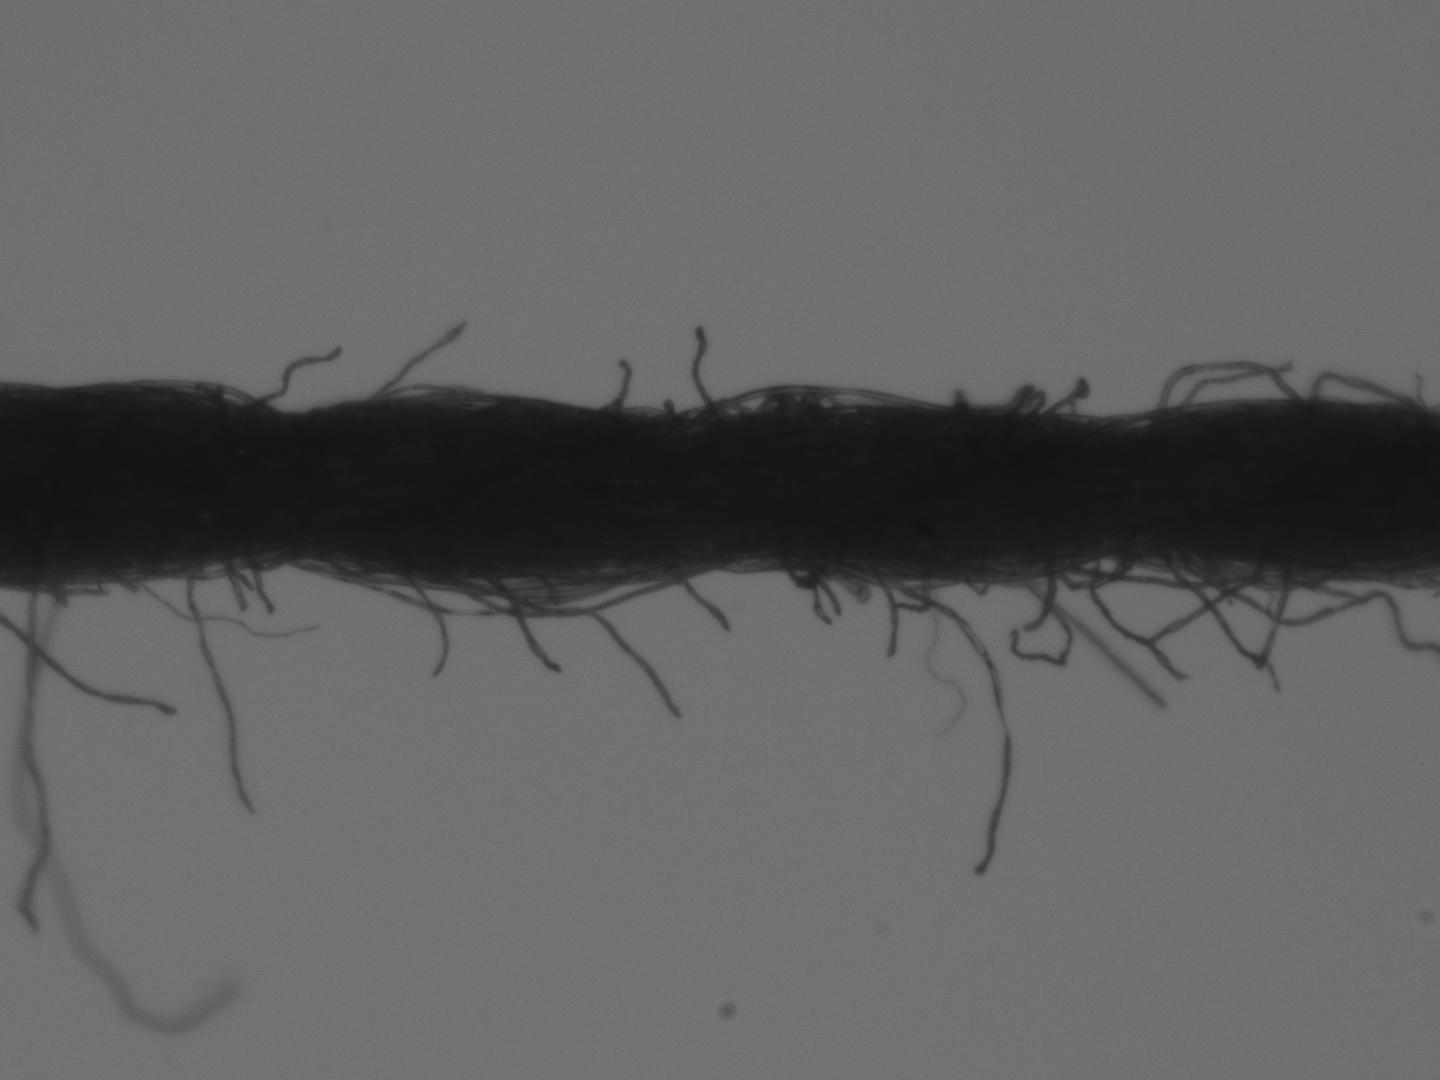loop_fiber: (1154, 548, 1289, 674), (472, 562, 731, 619), (693, 379, 949, 421), (1152, 354, 1296, 417), (1058, 546, 1253, 591), (1308, 366, 1422, 405), (1045, 548, 1135, 594), (376, 380, 505, 405), (1256, 551, 1332, 591), (771, 555, 840, 590), (1001, 381, 1045, 411)
protruding_fiber: (180, 560, 257, 811), (255, 337, 342, 403)
